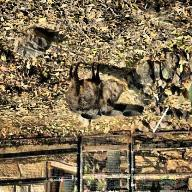boar: (54, 57, 129, 127)
